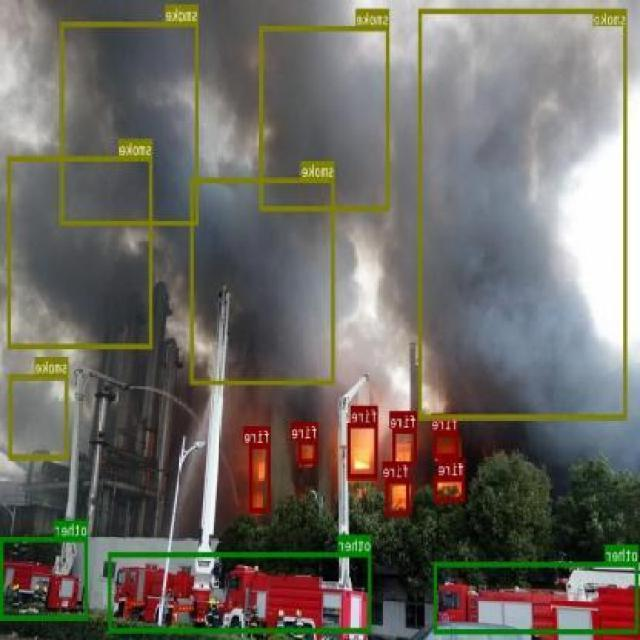Fire: (348, 422, 378, 478), (251, 442, 271, 512), (393, 428, 418, 464), (385, 478, 410, 514), (434, 475, 466, 500), (434, 430, 460, 458), (300, 438, 318, 464)
Smoke: (420, 8, 628, 418), (190, 178, 336, 384), (8, 156, 154, 347), (62, 21, 198, 224), (261, 25, 390, 210), (9, 373, 68, 458)
